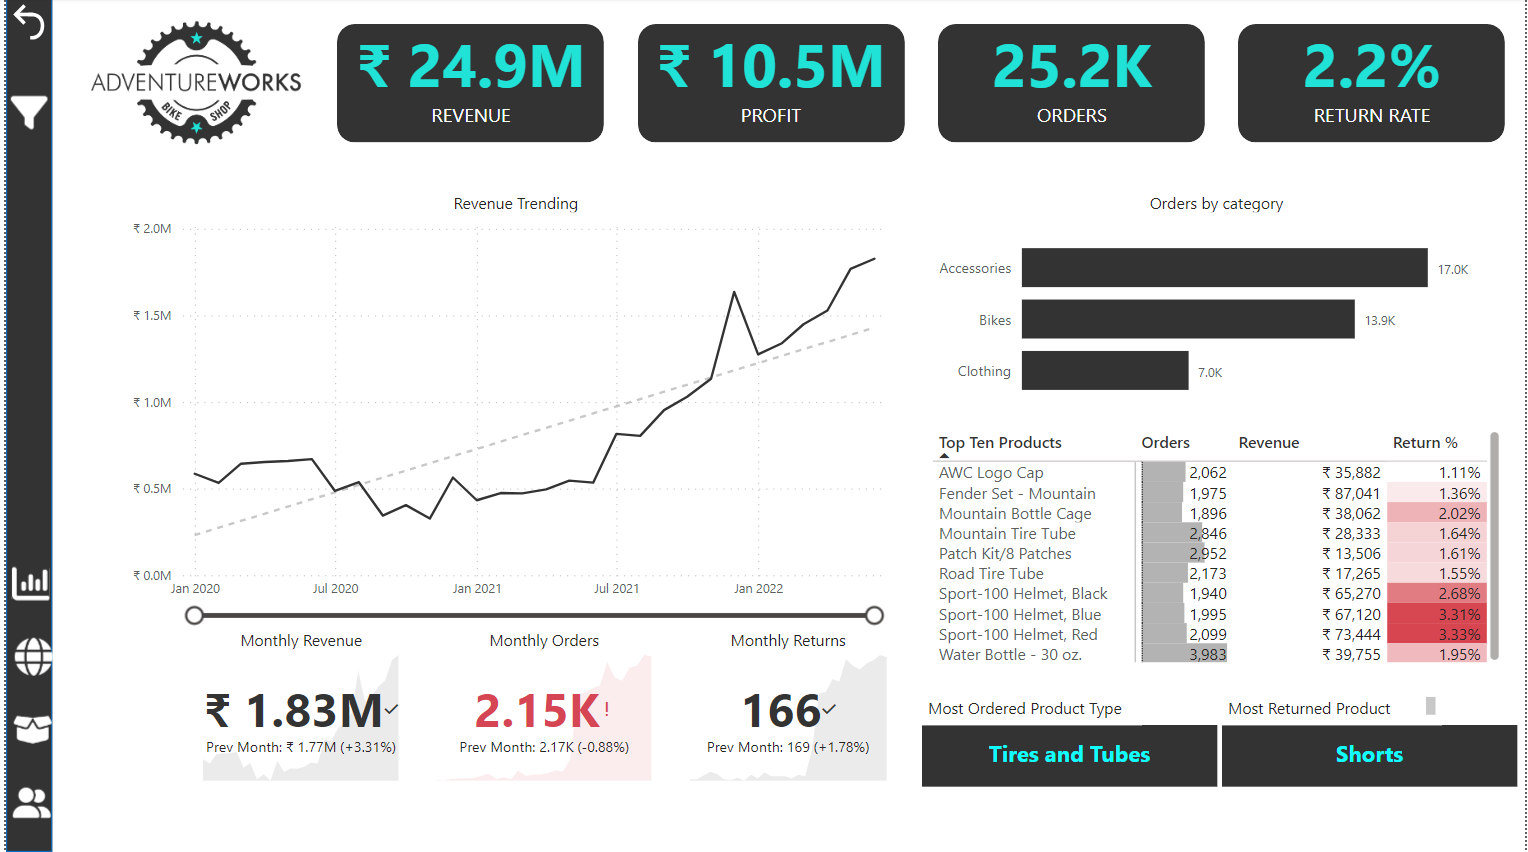

The page's visual inventory and layout, read from the dashboard file:
{"tool":"powerbi","page":{"name":"Exec Dashboard","canvas":[1280,720],"ordinal":0},"visuals":[{"type":"card","fields":{"Values":["Measure Table.Total Revenue"]},"box":[290,0,203.6,129.1],"z":0,"group":"g3"},{"type":"image","title":"AW Logo","box":[47.3,10.9,227.3,120.9],"z":0},{"type":"group","id":"g1","title":"KPI background","box":[279.1,21.8,985.5,100],"z":0,"group":"g2"},{"type":"shape","box":[279.1,21.8,225.5,100],"z":0,"group":"g1"},{"type":"actionButton","box":[2.8,596.4,44.8,40.3],"z":0,"group":"g4"},{"type":"group","id":"g2","title":"KPIs","box":[279.1,0,985.5,129.1],"z":1000},{"type":"group","id":"g3","title":"KPI values","box":[290,0,963.6,129.1],"z":1000,"group":"g2"},{"type":"card","fields":{"Values":["Measure Table.Return Rate"]},"box":[1050,0,203.6,129.1],"z":1000,"group":"g3"},{"type":"shape","box":[532.7,21.8,225.5,100],"z":1000,"group":"g1"},{"type":"actionButton","box":[1,473.7,44.8,40.3],"z":1000,"group":"g4"},{"type":"card","fields":{"Values":["Measure Table.Total orders"]},"box":[796.7,0,203.6,129.1],"z":2000,"group":"g3"},{"type":"shape","box":[785.5,21.8,225.5,100],"z":2000,"group":"g1"},{"type":"lineChart","title":"Revenue Trending","fields":{"Y":["Measure Table.Total Revenue"],"Category":["Calendar Lookup.Year","Calendar Lookup.Start of Quarter","Calendar Lookup.Start of Month"]},"box":[101.2,163.9,657.3,368.1],"z":2000},{"type":"actionButton","box":[1.9,658.2,44.8,40.3],"z":2000,"group":"g4"},{"type":"card","fields":{"Values":["Measure Table.Total Profit"]},"box":[543.3,0,203.6,129.1],"z":3000,"group":"g3"},{"type":"shape","box":[1039.1,21.8,225.5,100],"z":3000,"group":"g1"},{"type":"kpi","title":"Monthly Revenue","fields":{"Indicator":["Measure Table.Total Revenue"],"TrendLine":["Calendar Lookup.Start of Month"],"Goal":["Measure Table.Previous Month Revenue"]},"box":[160.9,531.8,175.5,132.7],"z":3000},{"type":"actionButton","box":[3.7,535.5,44.8,40.3],"z":3000,"group":"g4"},{"type":"kpi","title":"Monthly Orders","fields":{"TrendLine":["Calendar Lookup.Start of Month"],"Indicator":["Measure Table.Total orders"],"Goal":["Measure Table.Previous Month Orders"]},"box":[358.4,531.8,190.9,132.7],"z":4000},{"type":"kpi","title":"Monthly Returns","fields":{"TrendLine":["Calendar Lookup.Start of Month"],"Indicator":["Measure Table.Total Return"],"Goal":["Measure Table.Previous Month Return"]},"box":[571.3,531.8,175.5,132.5],"z":5000},{"type":"barChart","title":"Orders by category","fields":{"Category":["Product Categories Lookup.CategoryName"],"Y":["Measure Table.Total orders"]},"box":[776.4,163.9,488.1,190.7],"z":6000},{"type":"pivotTable","fields":{"Rows":["Product Lookup.ProductName"],"Values":["Measure Table.Total orders","Measure Table.Total Revenue","Measure Table.Return Rate"]},"box":[776.4,360,488.1,205.1],"z":7000},{"type":"card","fields":{"Values":["Min(Product Subcategories Lookup.SubcategoryName)"]},"box":[771.9,612.5,249,51.9],"z":8000},{"type":"textbox","box":[771.9,583.9,185.4,28.7],"z":9000},{"type":"card","fields":{"Values":["Min(Product Subcategories Lookup.SubcategoryName)"]},"box":[1025.5,612.7,249,51.9],"z":10000},{"type":"textbox","box":[1025.5,584,185.4,28.7],"z":11000},{"type":"shape","box":[0,0,39.4,720],"z":12000},{"type":"actionButton","box":[0,0,39.4,40.3],"z":13000},{"type":"group","id":"g4","title":"Navigation","box":[1,473.7,47.5,224.8],"z":14000},{"type":"actionButton","box":[0,71.6,39.4,50.1],"z":15000}]}

Visuals, with their boxes on the page's 1280x720 design canvas (x1, y1, x2, y2). These are canvas units, not pixel positions in the 1528x852 screenshot, which may show the page scaled, cropped or inside an application window:
card - Measure Table.Total Revenue: Rect(290, 0, 494, 129)
"AW Logo" image: Rect(47, 11, 275, 132)
"KPI background" group: Rect(279, 22, 1265, 122)
shape: Rect(279, 22, 505, 122)
actionButton: Rect(3, 596, 48, 637)
"KPIs" group: Rect(279, 0, 1265, 129)
"KPI values" group: Rect(290, 0, 1254, 129)
card - Measure Table.Return Rate: Rect(1050, 0, 1254, 129)
shape: Rect(533, 22, 758, 122)
actionButton: Rect(1, 474, 46, 514)
card - Measure Table.Total orders: Rect(797, 0, 1000, 129)
shape: Rect(786, 22, 1011, 122)
"Revenue Trending" lineChart: Rect(101, 164, 758, 532)
actionButton: Rect(2, 658, 47, 698)
card - Measure Table.Total Profit: Rect(543, 0, 747, 129)
shape: Rect(1039, 22, 1265, 122)
"Monthly Revenue" kpi: Rect(161, 532, 336, 664)
actionButton: Rect(4, 536, 48, 576)
"Monthly Orders" kpi: Rect(358, 532, 549, 664)
"Monthly Returns" kpi: Rect(571, 532, 747, 664)
"Orders by category" barChart: Rect(776, 164, 1264, 355)
pivotTable - Product Lookup.ProductName x Measure Table.Total orders: Rect(776, 360, 1264, 565)
card - Min(Product Subcategories Lookup.SubcategoryName): Rect(772, 612, 1021, 664)
textbox: Rect(772, 584, 957, 613)
card - Min(Product Subcategories Lookup.SubcategoryName): Rect(1026, 613, 1274, 665)
textbox: Rect(1026, 584, 1211, 613)
shape: Rect(0, 0, 39, 720)
actionButton: Rect(0, 0, 39, 40)
"Navigation" group: Rect(1, 474, 48, 698)
actionButton: Rect(0, 72, 39, 122)
